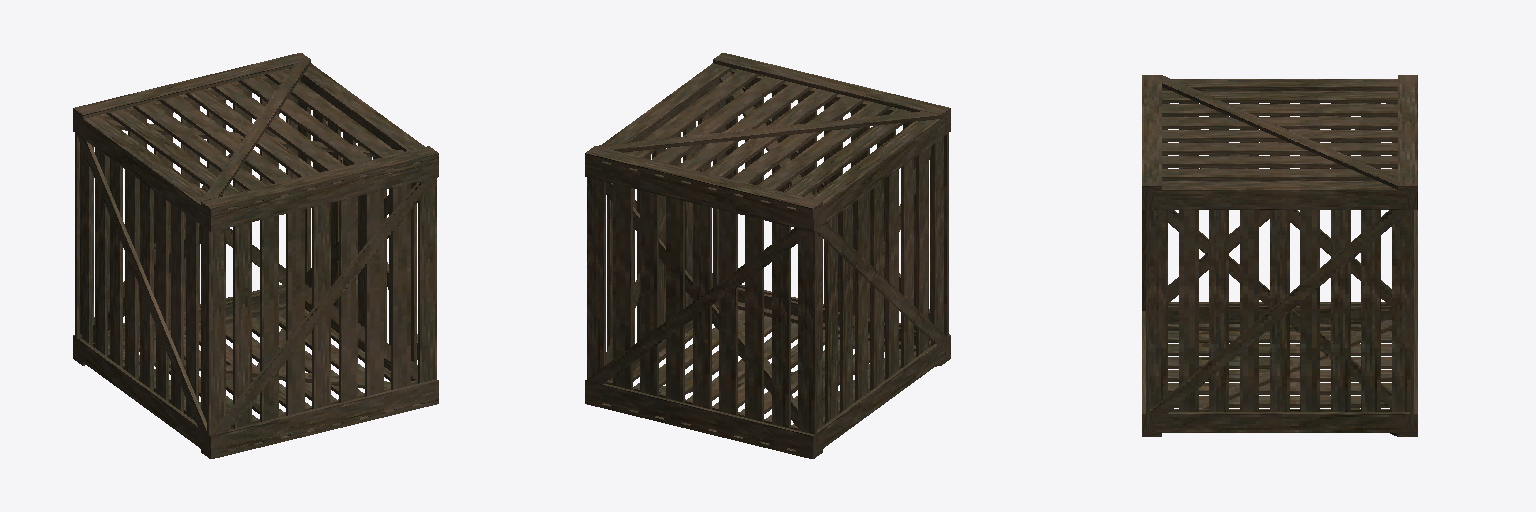
3 renders of one model, left to right at view 1: azimuth 30°, elevation 25°; view 2: azimuth 150°, elevation 25°; view 3: azimuth 270°, elevation 25°, orthographic.
Parts seen in each view (by area): view 1: Mesh_Mesh.017_Crate1; view 2: Mesh_Mesh.017_Crate1; view 3: Mesh_Mesh.017_Crate1.
Boxes of the visible parts, <box> form: Mesh_Mesh.017_Crate1: <box>73,53,438,458</box>; Mesh_Mesh.017_Crate1: <box>585,53,950,458</box>; Mesh_Mesh.017_Crate1: <box>1142,75,1417,436</box>.
Size of the model in its own units: 0.8656 by 0.9092 by 0.9052.
1 materials, 1 textured.